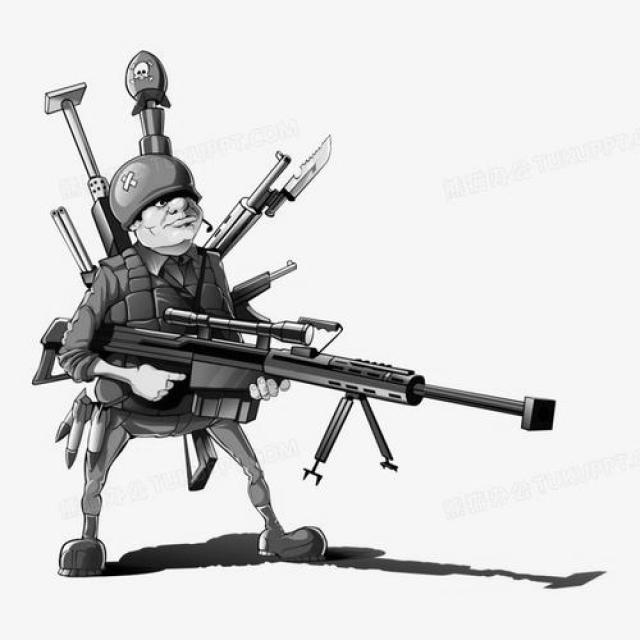gun: (30, 307, 560, 488)
